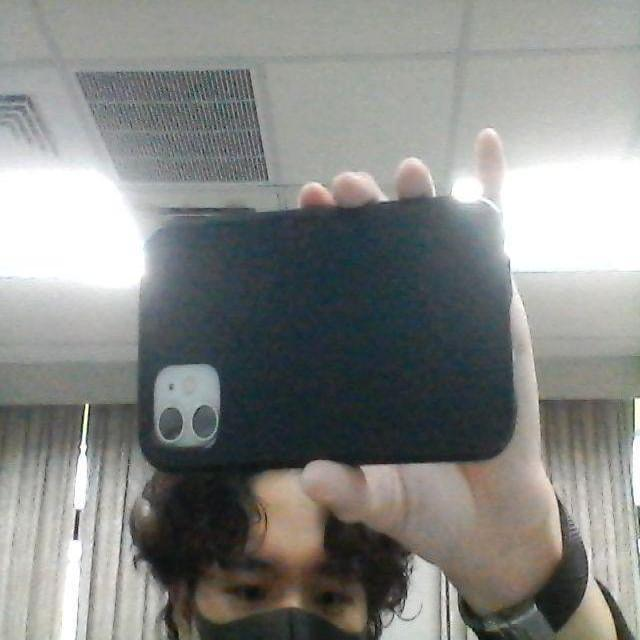smart phone: (115, 172, 518, 480)
